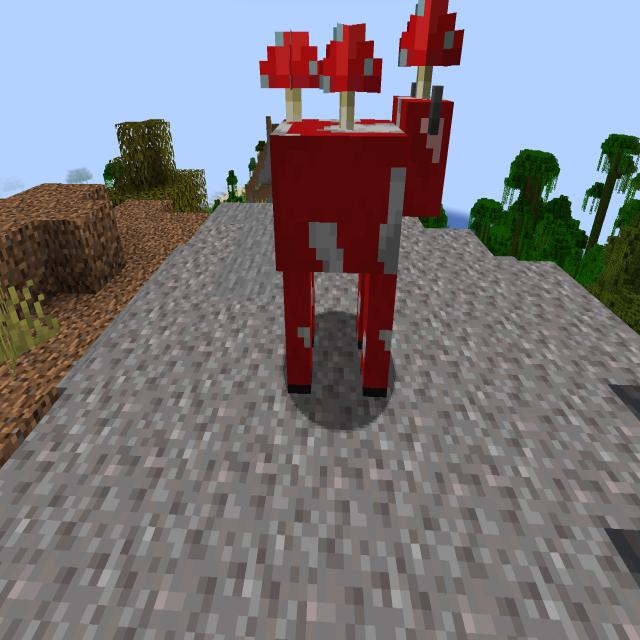Mooshroom: (249, 1, 466, 430)
